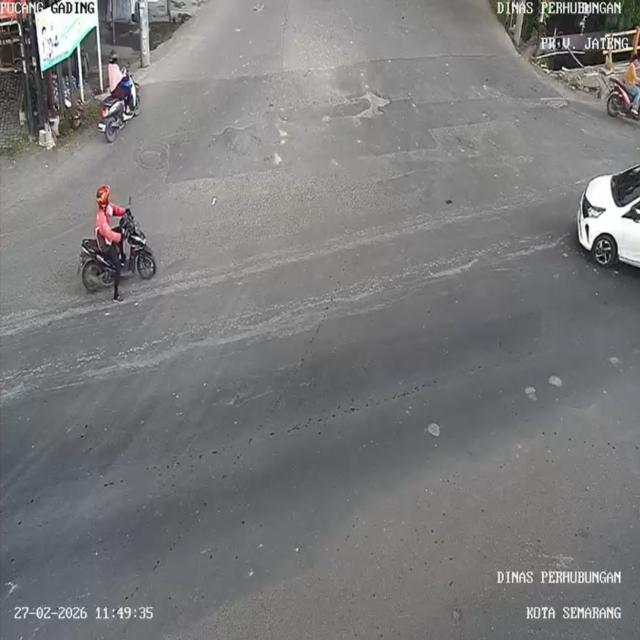motorcycle: (75, 226, 160, 288), (97, 96, 135, 146)
person: (89, 181, 134, 255), (104, 52, 134, 111)
rider_region: (76, 184, 158, 302), (98, 52, 142, 142)
